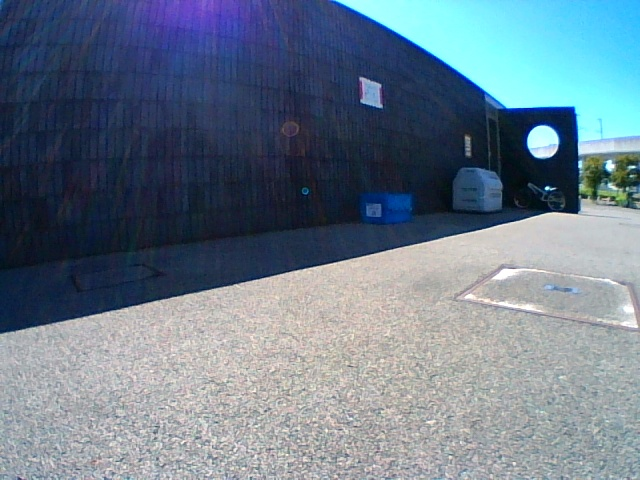blue_box: (361, 193, 411, 222)
tag: (367, 204, 379, 216)
